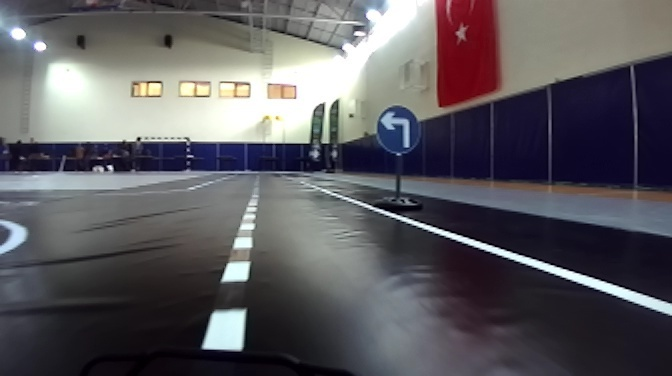sola_donus: (373, 103, 425, 155)
